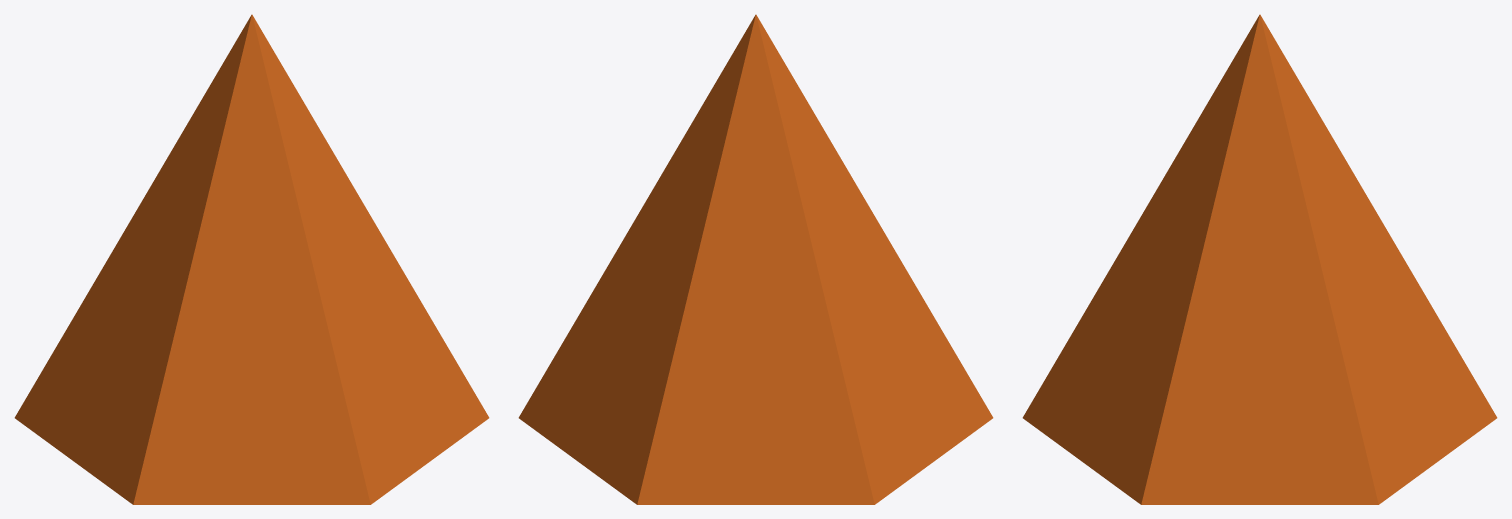
The model's file is RPG_Tiles_Hex_Building_Roof_03.FBX.
The picture shows the model from 3 angles, left to right: view 1: azimuth 30°, elevation 25°; view 2: azimuth 150°, elevation 25°; view 3: azimuth 270°, elevation 25°; orthographic projection.
Visible parts, largest first — view 1: RPG_Tiles_Hex_Building_Roof_03; view 2: RPG_Tiles_Hex_Building_Roof_03; view 3: RPG_Tiles_Hex_Building_Roof_03.
Part boxes in pixels (x1,y1,x2,y2): RPG_Tiles_Hex_Building_Roof_03: (14, 14, 489, 504); RPG_Tiles_Hex_Building_Roof_03: (518, 14, 993, 504); RPG_Tiles_Hex_Building_Roof_03: (1022, 14, 1497, 504).
Bounding box in the file's own units: 3000 × 3251 × 3464.
